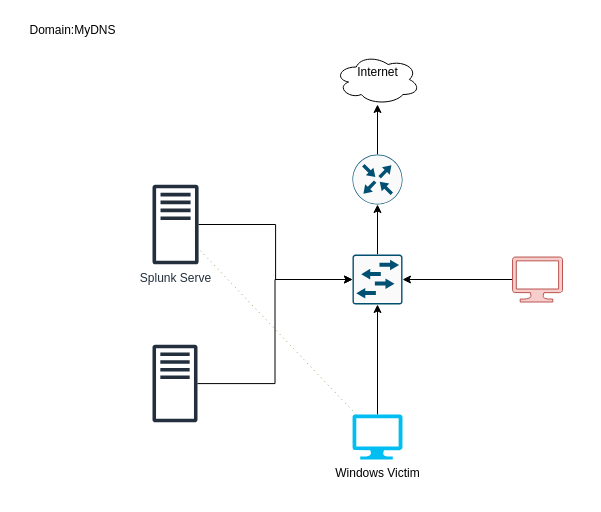
Some shapes in this 601 by 512 pixel diagram are drawn without their labels. The shapes that lost their labels are listed below. From the top down, each one's centre as x and y in pixels, then its label:
At point (537, 279): "Attacker Machine".
At point (174, 383): "Active Directory Splunk Universal Folder Sysmon".
